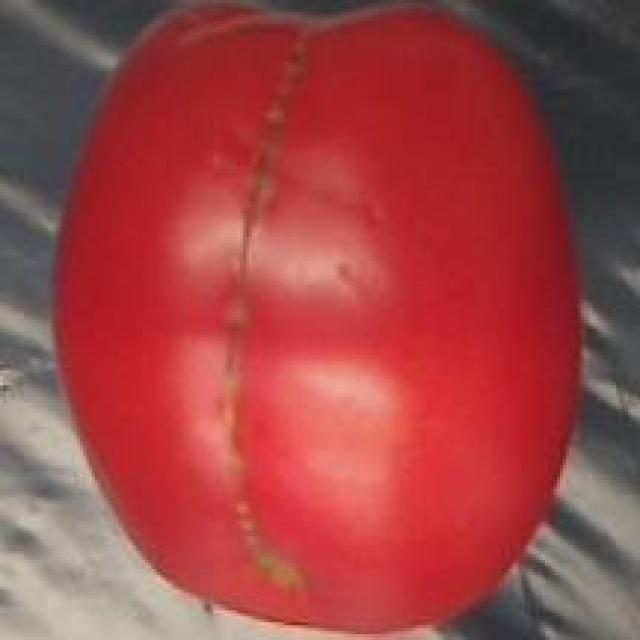overripe tomato: (44, 0, 598, 640)
